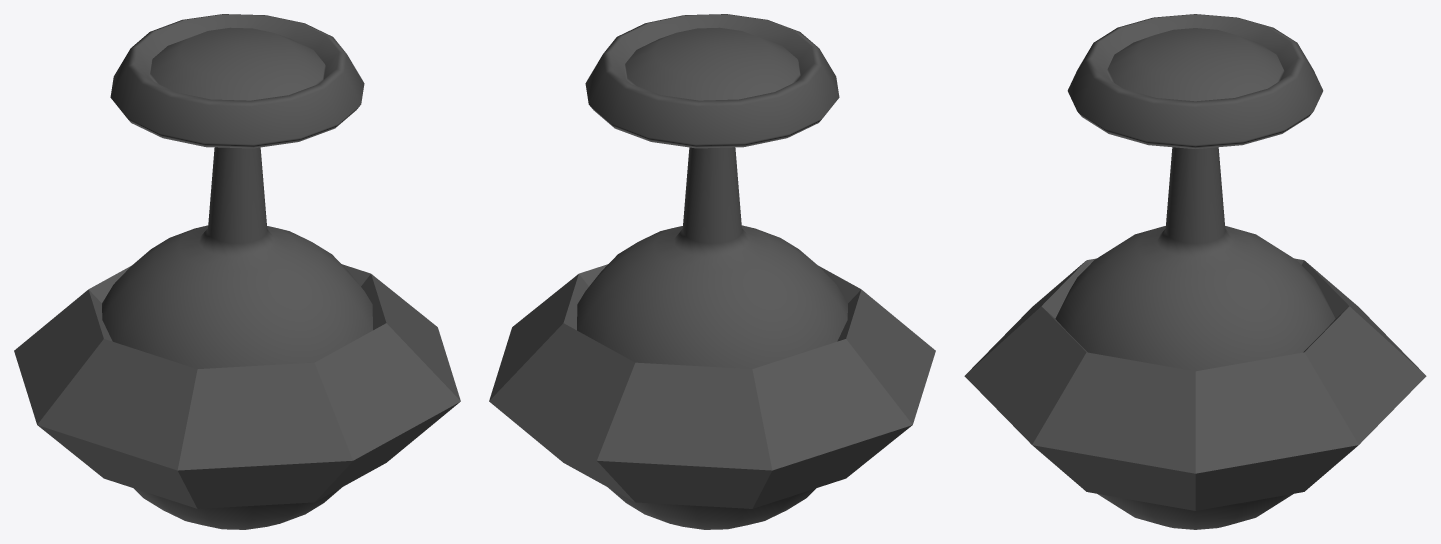
The model's file is Stick_1.obj.
3 renders of one model, left to right at view 1: azimuth 30°, elevation 25°; view 2: azimuth 150°, elevation 25°; view 3: azimuth 270°, elevation 25°, orthographic.
Visible parts, largest first — view 1: Stick_MDL_1; view 2: Stick_MDL_1; view 3: Stick_MDL_1.
Boxes of the visible parts, box(x1,y1,x2,y2) form: Stick_MDL_1: box(14, 14, 460, 529); Stick_MDL_1: box(489, 14, 935, 529); Stick_MDL_1: box(964, 14, 1426, 529).
Size of the model in its own units: 3 by 3.36 by 3.
Materials: 1 (1 with a texture image).
